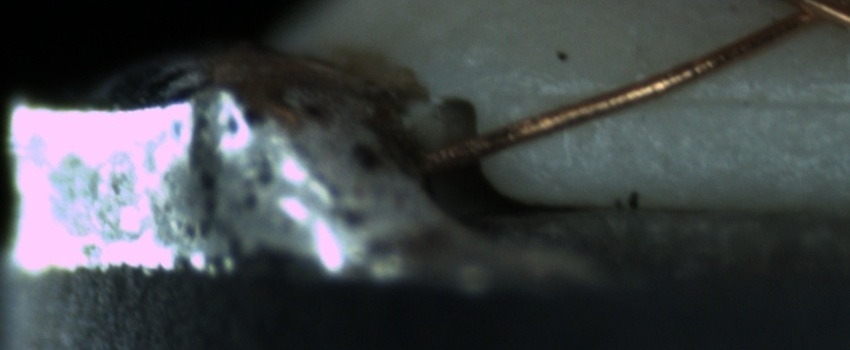CL: (770, 1, 846, 33)
DL: (534, 64, 850, 132)
